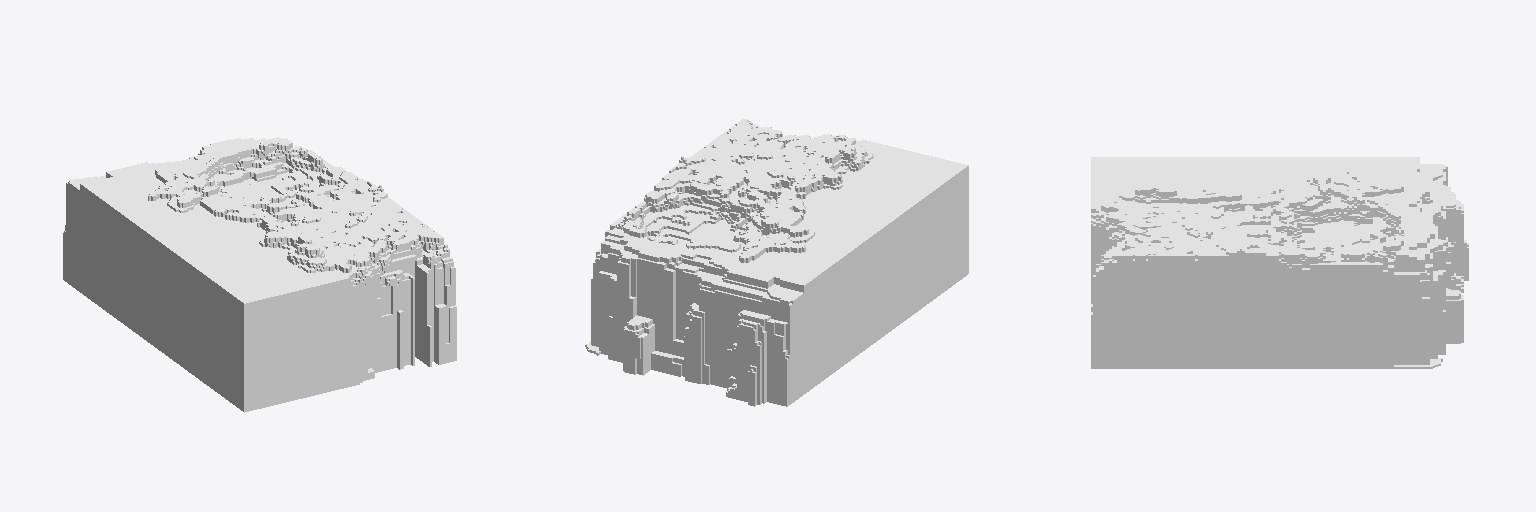
The model's file is Cubeland-14.obj.
3 renders of one model, left to right at view 1: azimuth 30°, elevation 25°; view 2: azimuth 150°, elevation 25°; view 3: azimuth 270°, elevation 25°, orthographic.
Visible parts, largest first — view 1: object 1; view 2: object 1; view 3: object 1.
Boxes of the visible parts, x1=… form: object 1: x1=63, y1=137, x2=456, y2=412; object 1: x1=585, y1=118, x2=968, y2=406; object 1: x1=1091, y1=157, x2=1468, y2=368.
Size of the model in its own units: 9.4 by 5.2 by 14.5.